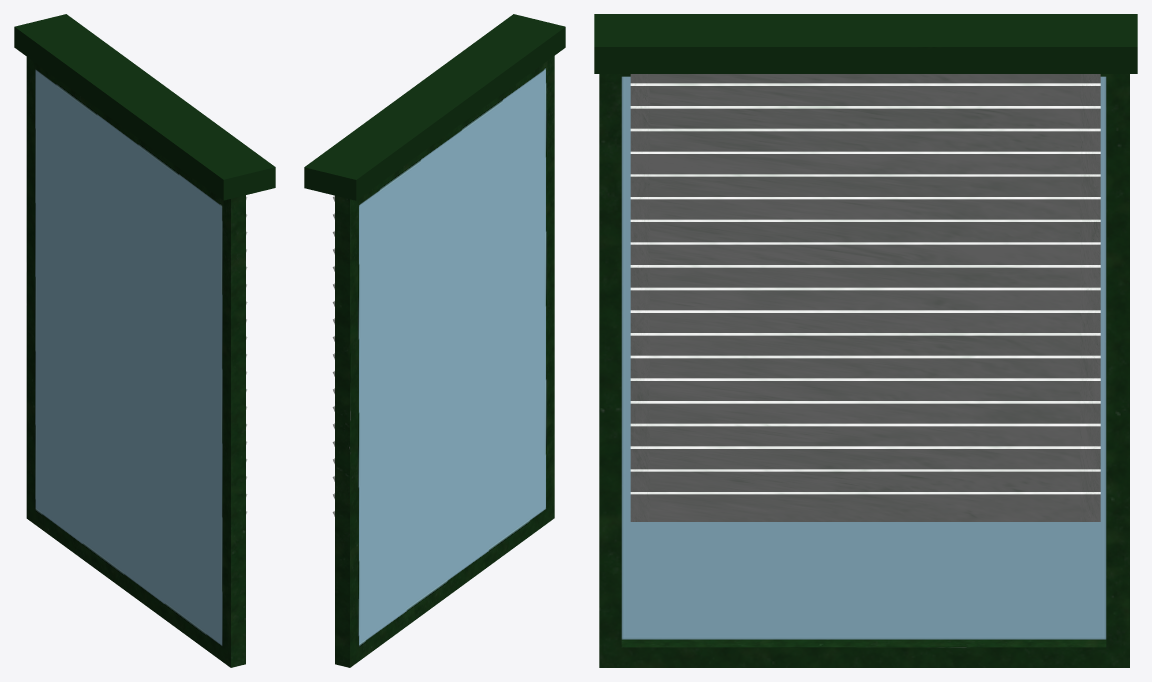
The model's file is window.fbx.
3 views of the same model, side by side, from view 1: azimuth 30°, elevation 25°; view 2: azimuth 150°, elevation 25°; view 3: azimuth 270°, elevation 25° (orthographic). The views are drawn at different scales.
Visible parts, largest first — view 1: Cube, Cube_1; view 2: Cube, Cube_1; view 3: Cloner_1, Cube, Cube_1.
Boxes of the visible parts, <box> form: Cube: <box>26,57,245,667</box>; Cube_1: <box>14,14,275,200</box>; Cube: <box>335,56,554,667</box>; Cube_1: <box>304,14,565,200</box>; Cloner_1: <box>630,74,1100,521</box>; Cube: <box>599,74,1129,667</box>; Cube_1: <box>594,14,1137,73</box>.
Size of the model in its own units: 15.58 by 141 by 108.
Materials: 1 (1 with a texture image).
